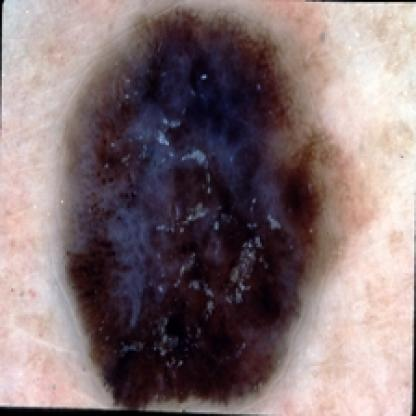Skin_Cancer-Malignant: (46, 0, 374, 412)
